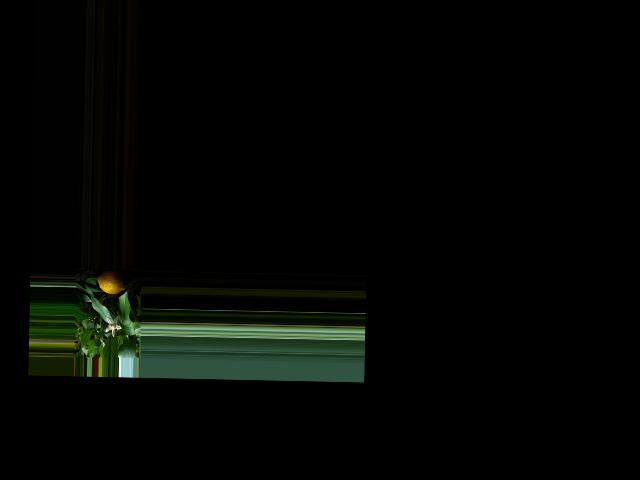lemon: (96, 269, 127, 297)
